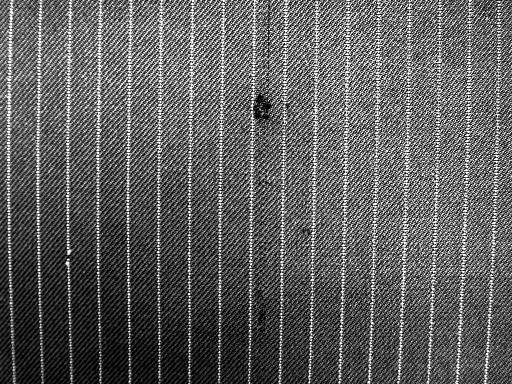fabric_hole: (285, 214, 341, 258), (238, 91, 288, 125)
